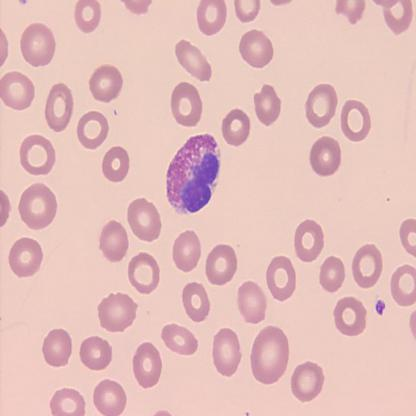Eosinophil: (167, 130, 218, 216)
